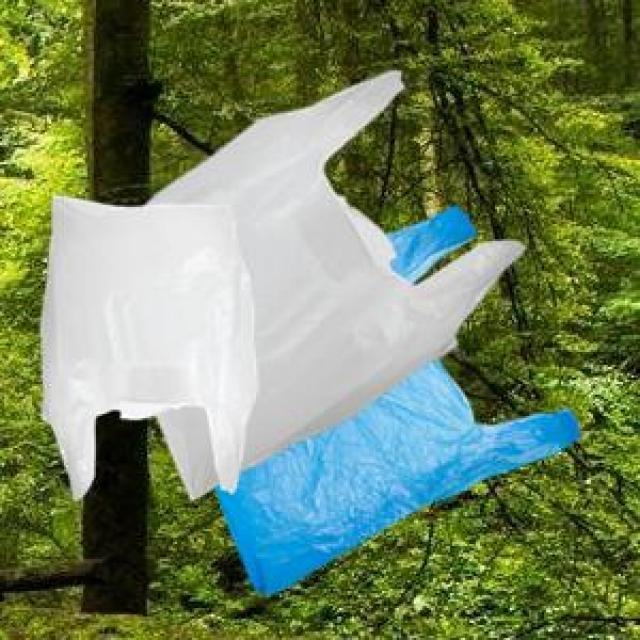waste: (154, 73, 528, 499), (224, 210, 580, 592), (42, 194, 248, 498)
